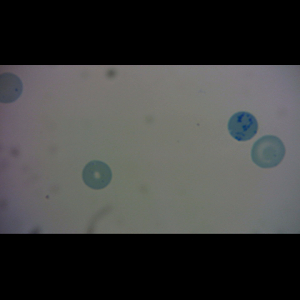aggregate reticulocyte: (227, 111, 259, 142)
erythrocyte: (82, 160, 112, 189)
punctate reticulocyte: (250, 135, 285, 169)
